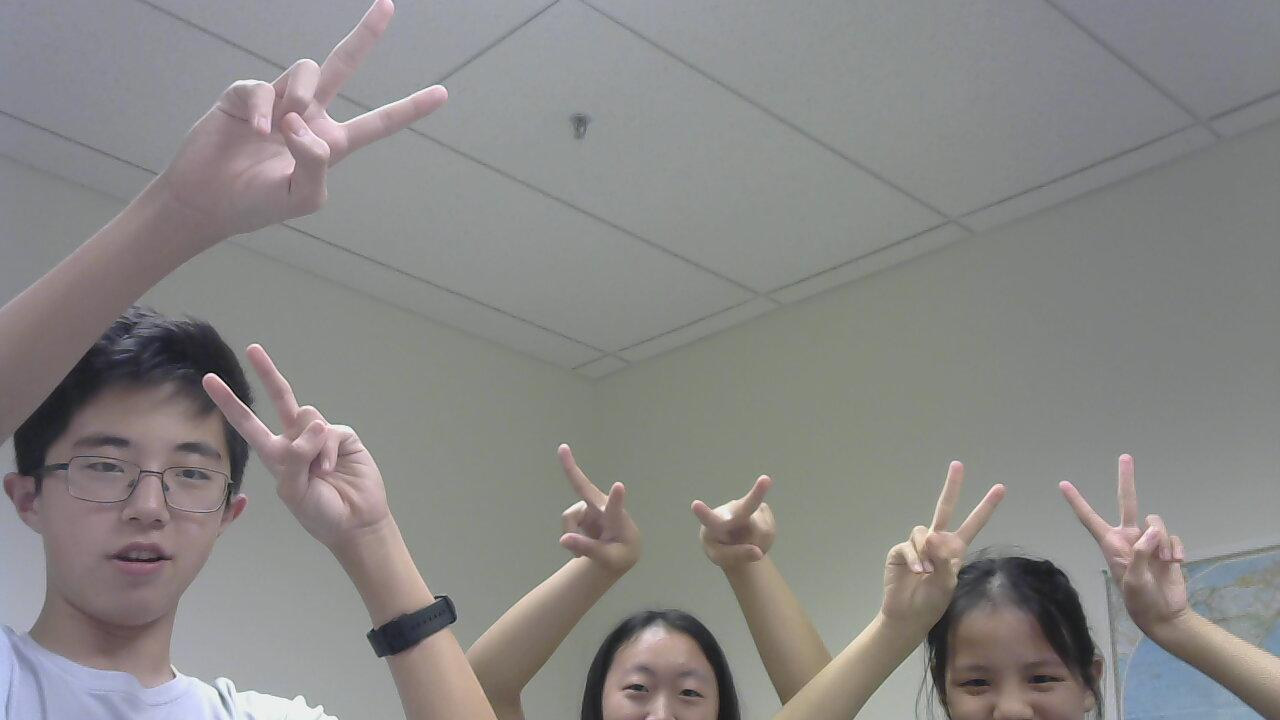peace: (158, 2, 489, 236), (193, 337, 409, 538), (861, 452, 1017, 646), (1051, 452, 1195, 624), (526, 412, 647, 581), (673, 469, 790, 578)
